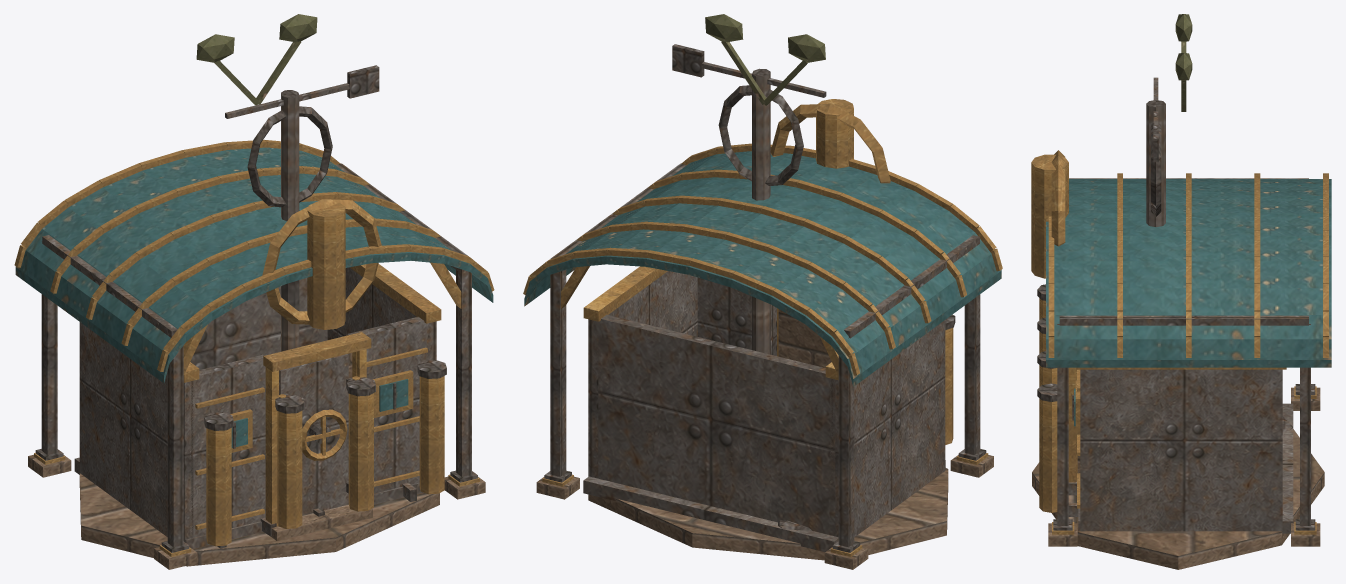
File: center-seed-vault.glb
3 views of the same model, side by side, from view 1: azimuth 30°, elevation 25°; view 2: azimuth 150°, elevation 25°; view 3: azimuth 270°, elevation 25° (orthographic). The views are drawn at different scales.
Parts seen in each view (by area): view 1: center-seed-vault; view 2: center-seed-vault; view 3: center-seed-vault.
Part boxes in pixels (bbox=[...]): center-seed-vault: bbox=[14, 14, 494, 569]; center-seed-vault: bbox=[523, 14, 1002, 569]; center-seed-vault: bbox=[1031, 14, 1331, 569].
Bounding box in the file's own units: 5.7 × 7.17 × 4.31.
Materials: 1 (1 with a texture image).
